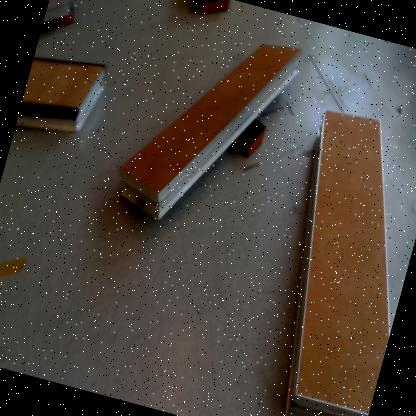Stairs: (284, 111, 391, 416), (120, 44, 303, 221), (17, 58, 106, 135), (43, 1, 69, 26)
